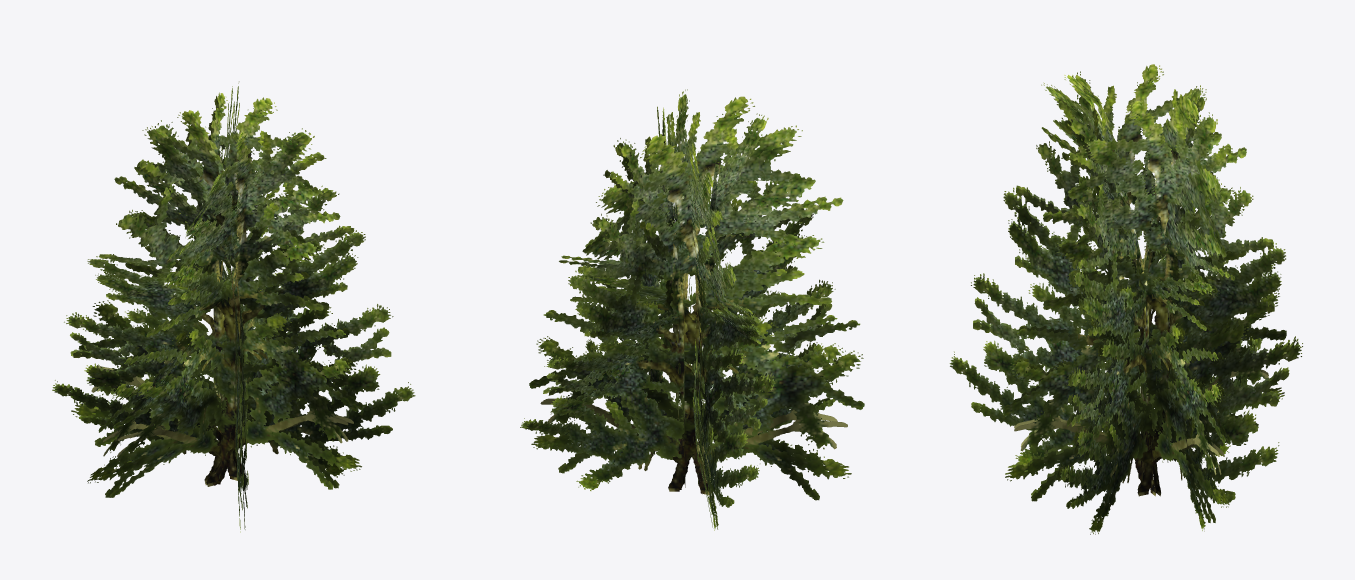
File: 0ad-ancient.e6baf49b607c.fir.glb
3 renders of one model, left to right at view 1: azimuth 30°, elevation 25°; view 2: azimuth 150°, elevation 25°; view 3: azimuth 270°, elevation 25°, orthographic. The views are drawn at different scales.
Visible parts, largest first — view 1: flora/trees/fir_sapling.xml; view 2: flora/trees/fir_sapling.xml; view 3: flora/trees/fir_sapling.xml.
Part boxes in pixels (box(x1,y1,x2,y2)): flora/trees/fir_sapling.xml: box(52, 81, 415, 532); flora/trees/fir_sapling.xml: box(520, 89, 864, 530); flora/trees/fir_sapling.xml: box(949, 64, 1302, 534).
Bounding box in the file's own units: 8.56 × 10.16 × 8.83.
Materials: 1 (1 with a texture image).
